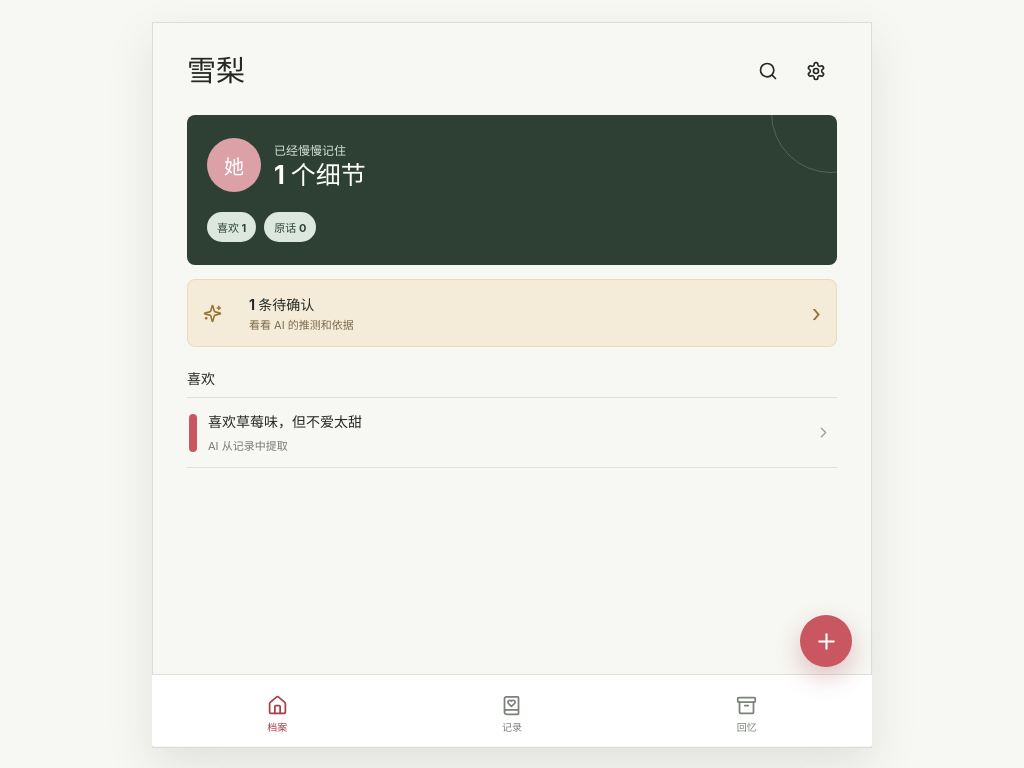
Test: App › 确认推测后将它显示在档案中
Click the button with aria-label "查看待确认": (285, 304) [187,279,837,347]
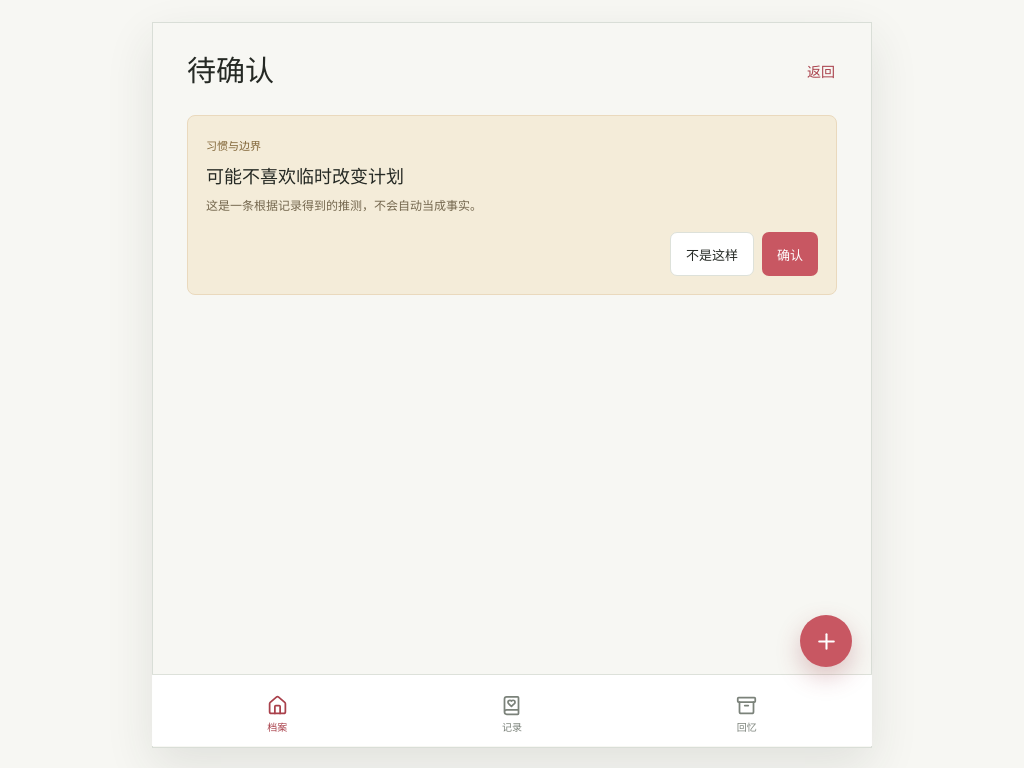
Click the button with aria-label "确认这条线索": (790, 254) [762,232,818,276]
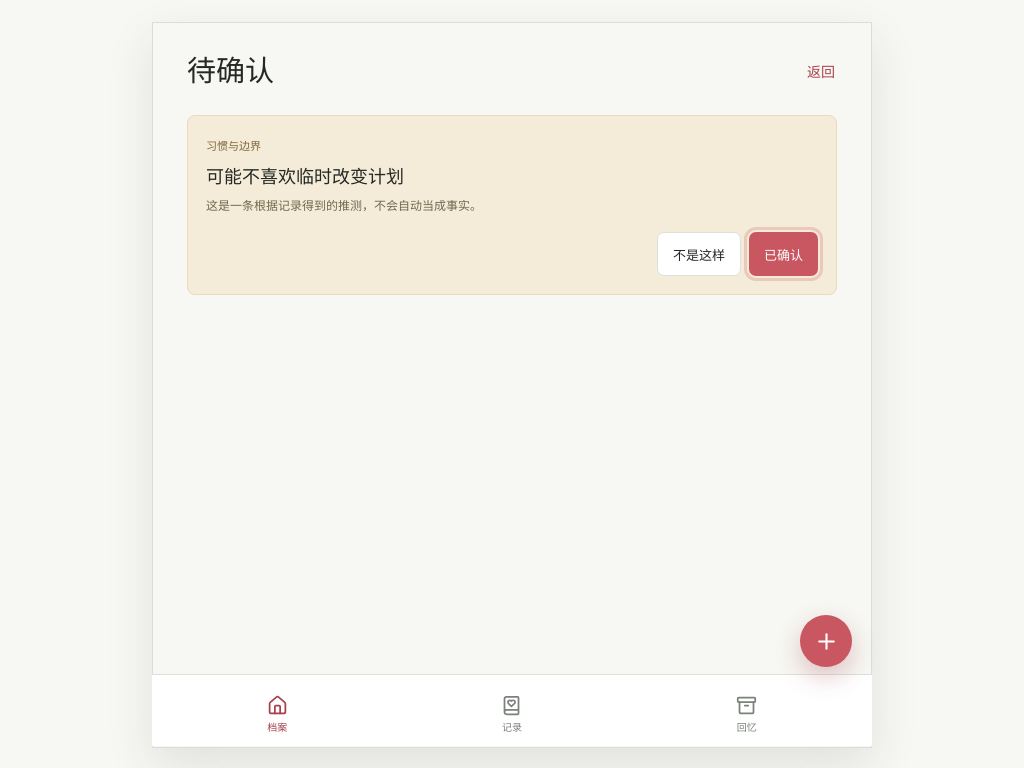
Now the button "已确认" is shown, box [749,232,818,276]
